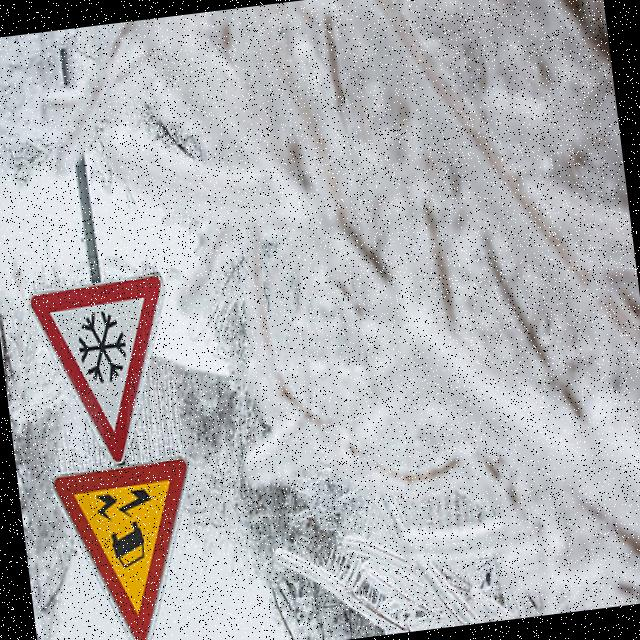road_slippery: (51, 455, 209, 640)
